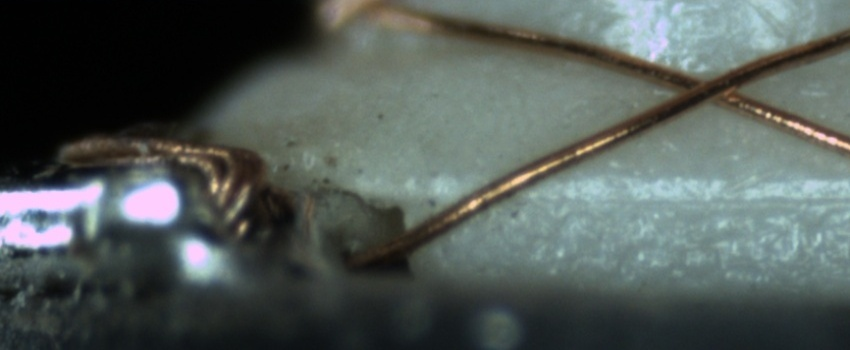CL: (656, 61, 773, 114)
DL: (484, 164, 849, 228)
TE: (51, 130, 272, 242)
